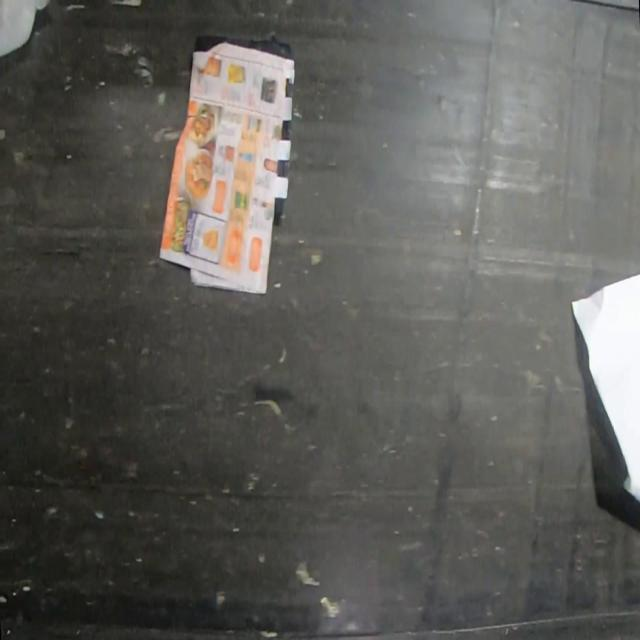rigid_plastic: (0, 1, 51, 59)
